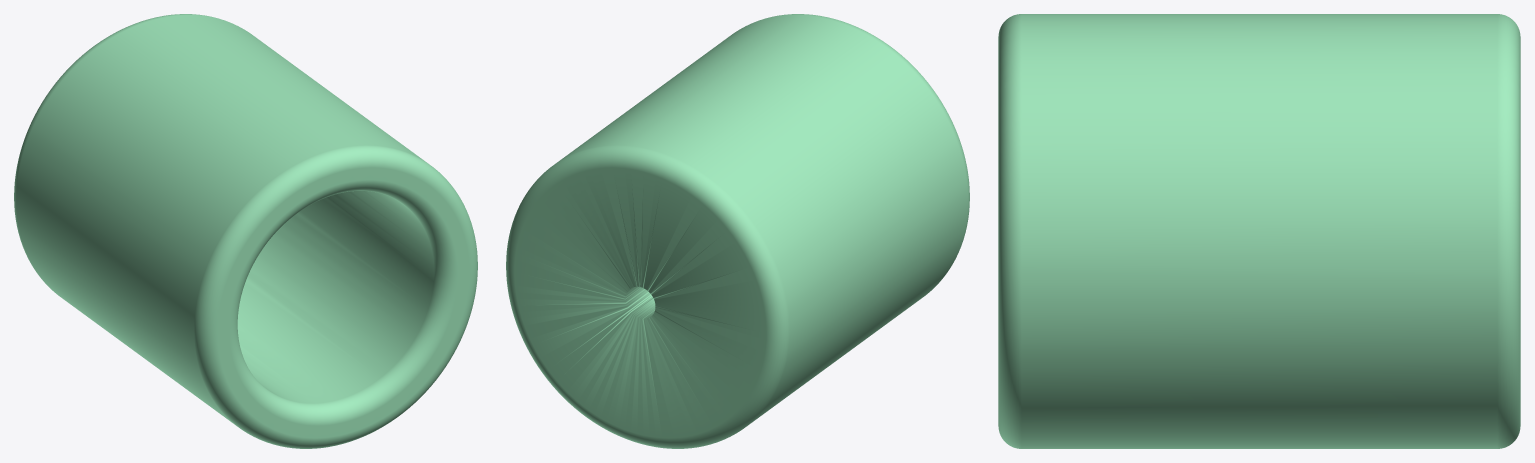
File: rig_glass.glb
3 renders of one model, left to right at view 1: azimuth 30°, elevation 25°; view 2: azimuth 150°, elevation 25°; view 3: azimuth 270°, elevation 25°, orthographic. The views are drawn at different scales.
Parts seen in each view (by area): view 1: rig_glass; view 2: rig_glass; view 3: rig_glass.
Boxes of the visible parts, x1,y1,x2,y2 form: rig_glass: (14,14,477,448); rig_glass: (506,14,969,448); rig_glass: (998,14,1520,448).
Bounding box in the file's own units: 75 × 74.98 × 90.
